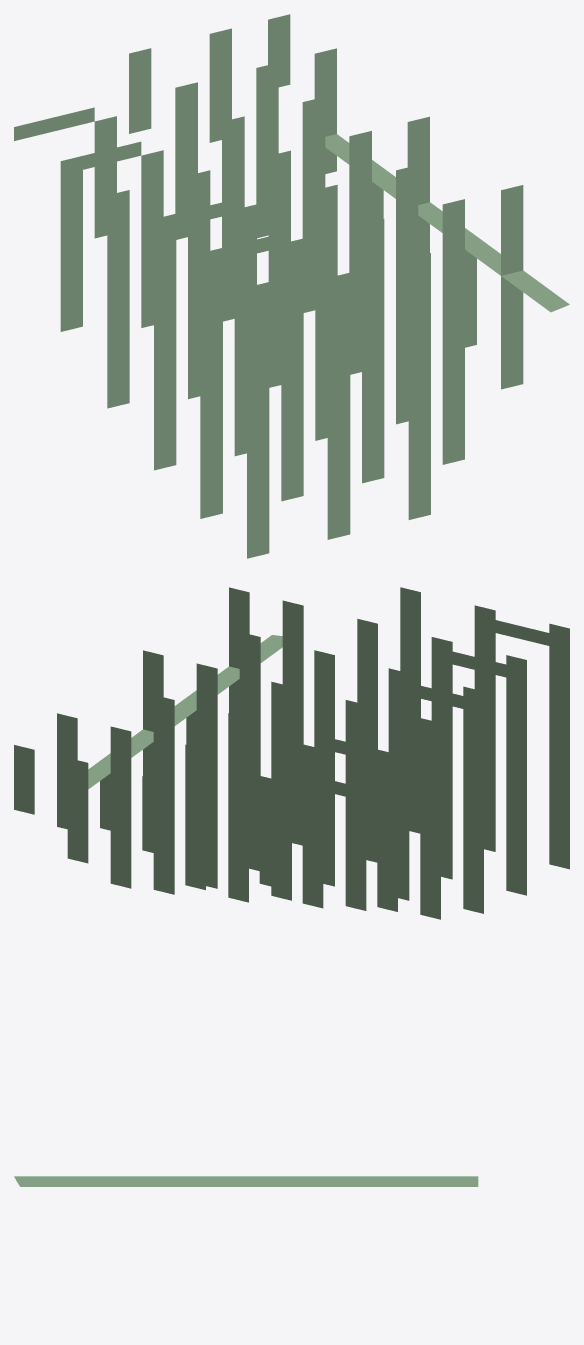
Rendered from DIESEL_OIL_OVERFLOW_TK_PS.glb.
3 renders of one model, top to bottom at view 1: azimuth 30°, elevation 25°; view 2: azimuth 150°, elevation 25°; view 3: azimuth 270°, elevation 25°, orthographic. The views are drawn at different scales.
Visible parts, largest first — view 1: ST_TransxFR42P_002001-FB_250x12.5_NVA_1993, ST_TransxFR43P_002001-FB_250x12.5_NVA_1993, ST_TransxFR41P_016001-FB_250x12.5_NVA_1993, ST_TransxFR44P_005001-FB_250x12.5_NVA_1993, ST_TransxFR43P_005001-FB_250x12.5_NVA_1993, ST_TransxFR41P_015001-FB_250x12.5_NVA_1993, ST_TransxFR42P_005001-FB_250x12.5_NVA_1993, ST_TransxFR41P_014001-FB_250x12.5_NVA_1993, ST_TransxFR41P_017001-FB_250x12.5_NVA_1993, ST_TransxFR45P_005001-FB_250x12.5_NVA_1993, ST_TransxFR44P_004001-FB_250x12.5_NVA_1993, ST_TransxFR43P_004001-FB_250x12.5_NVA_1993 (+25 smaller); view 2: ST_TransxFR41P_016001-FB_250x12.5_NVA_1993, ST_TransxFR41P_015001-FB_250x12.5_NVA_1993, ST_TransxFR41P_014001-FB_250x12.5_NVA_1993, ST_TransxFR42P_003001-FB_250x12.5_NVA_1993, ST_TransxFR41P_017001-FB_250x12.5_NVA_1993, ST_TransxFR43P_006001-FB_250x12.5_NVA_1993, ST_TransxFR44P_004001-FB_250x12.5_NVA_1993, ST_TransxFR44P_008001-FB_250x12.5_NVA_1993, ST_TransxFR43P_002001-FB_250x12.5_NVA_1993, ST_TransxFR44P_005001-FB_250x12.5_NVA_1993, ST_TransxFR44P_009001-FB_250x12.5_NVA_1993, ST_TransxFR43P_005001-FB_250x12.5_NVA_1993 (+25 smaller); view 3: ST_TransxFR45P_006001-FB_250x12.5_NVA_1993, ST_TransxFR45P_009002-FB_250x12.5_NVA_1993, ST_TransxFR45P_004001-FB_250x12.5_NVA_1993.
Part boxes in pixels (x1=…): ST_TransxFR42P_002001-FB_250x12.5_NVA_1993: x1=327, y1=272, x2=350, y2=539; ST_TransxFR43P_002001-FB_250x12.5_NVA_1993: x1=408, y1=253, x2=430, y2=519; ST_TransxFR41P_016001-FB_250x12.5_NVA_1993: x1=247, y1=292, x2=269, y2=558; ST_TransxFR44P_005001-FB_250x12.5_NVA_1993: x1=442, y1=199, x2=464, y2=464; ST_TransxFR43P_005001-FB_250x12.5_NVA_1993: x1=362, y1=219, x2=384, y2=483; ST_TransxFR41P_015001-FB_250x12.5_NVA_1993: x1=200, y1=258, x2=222, y2=518; ST_TransxFR42P_005001-FB_250x12.5_NVA_1993: x1=281, y1=238, x2=303, y2=501; ST_TransxFR41P_014001-FB_250x12.5_NVA_1993: x1=154, y1=224, x2=176, y2=470; ST_TransxFR41P_017001-FB_250x12.5_NVA_1993: x1=107, y1=190, x2=129, y2=408; ST_TransxFR45P_005001-FB_250x12.5_NVA_1993: x1=501, y1=185, x2=523, y2=389; ST_TransxFR44P_004001-FB_250x12.5_NVA_1993: x1=396, y1=165, x2=418, y2=424; ST_TransxFR43P_004001-FB_250x12.5_NVA_1993: x1=315, y1=184, x2=337, y2=440; ST_TransxFR41P_016001-FB_250x12.5_NVA_1993: x1=549, y1=623, x2=569, y2=869; ST_TransxFR41P_015001-FB_250x12.5_NVA_1993: x1=506, y1=655, x2=526, y2=895; ST_TransxFR41P_014001-FB_250x12.5_NVA_1993: x1=463, y1=686, x2=483, y2=913; ST_TransxFR42P_003001-FB_250x12.5_NVA_1993: x1=345, y1=700, x2=366, y2=910; ST_TransxFR41P_017001-FB_250x12.5_NVA_1993: x1=420, y1=718, x2=440, y2=919; ST_TransxFR43P_006001-FB_250x12.5_NVA_1993: x1=228, y1=713, x2=248, y2=902; ST_TransxFR44P_004001-FB_250x12.5_NVA_1993: x1=239, y1=632, x2=260, y2=870; ST_TransxFR44P_008001-FB_250x12.5_NVA_1993: x1=153, y1=695, x2=174, y2=894; ST_TransxFR43P_002001-FB_250x12.5_NVA_1993: x1=400, y1=587, x2=420, y2=833; ST_TransxFR44P_005001-FB_250x12.5_NVA_1993: x1=282, y1=600, x2=303, y2=845; ST_TransxFR44P_009001-FB_250x12.5_NVA_1993: x1=196, y1=663, x2=217, y2=888; ST_TransxFR43P_005001-FB_250x12.5_NVA_1993: x1=357, y1=618, x2=377, y2=862; ST_TransxFR45P_006001-FB_250x12.5_NVA_1993: x1=112, y1=1176, x2=295, y2=1186; ST_TransxFR45P_009002-FB_250x12.5_NVA_1993: x1=336, y1=1176, x2=478, y2=1186; ST_TransxFR45P_004001-FB_250x12.5_NVA_1993: x1=14, y1=1176, x2=111, y2=1186.
Bounding box in the file's own units: 3.6 × 2.79 × 5.46.
